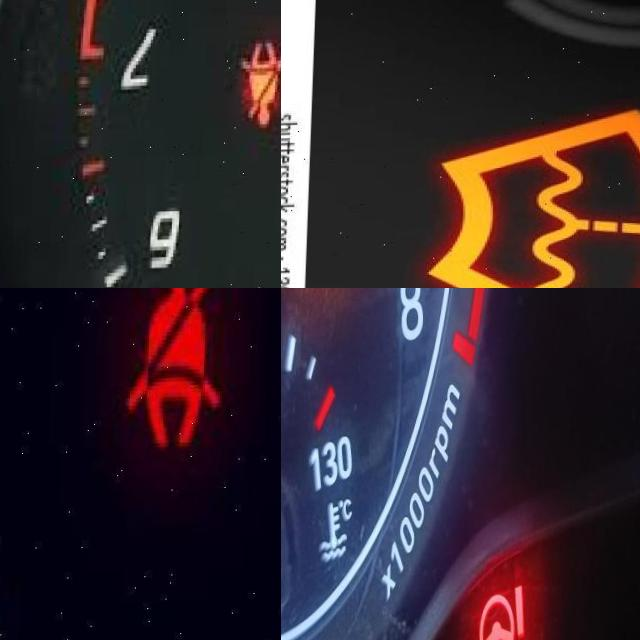Electronic Power Steering: (473, 572, 540, 640)
Seat Belt: (130, 288, 227, 449), (240, 44, 281, 128)
Washer Fluid: (428, 107, 640, 288)
